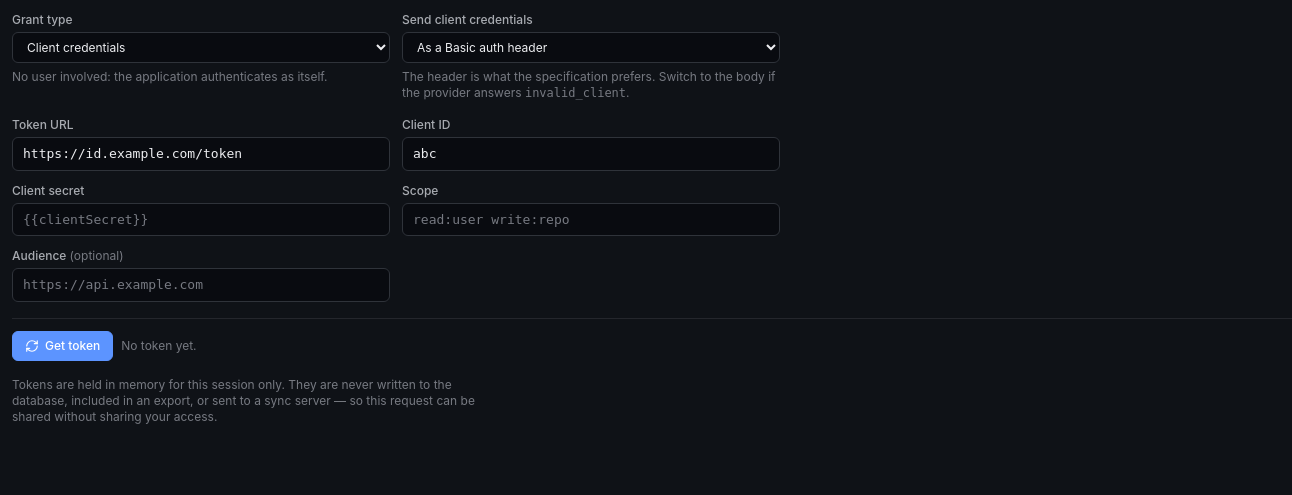
Test: OAuth2Editor › shows the failure from the provider rather than swallowing it
Click the button "Get token".
click(63, 346)  # box [12,330,113,360]
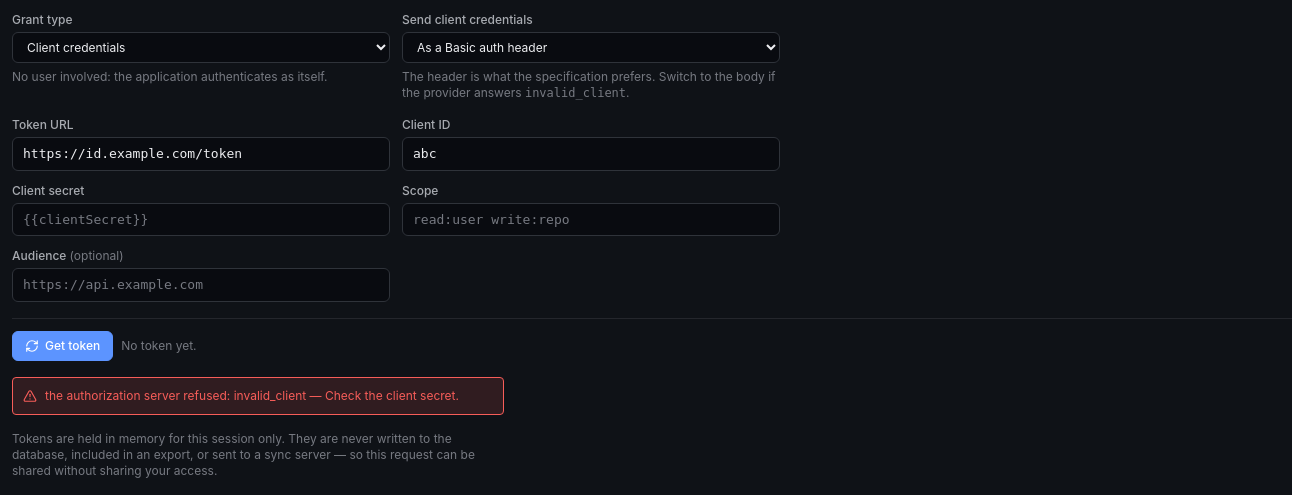
Expected: the text "invalid_client" is shown, [525,86,626,100]
Now the text "Check the client secret." is shown, box [45,388,459,402]
